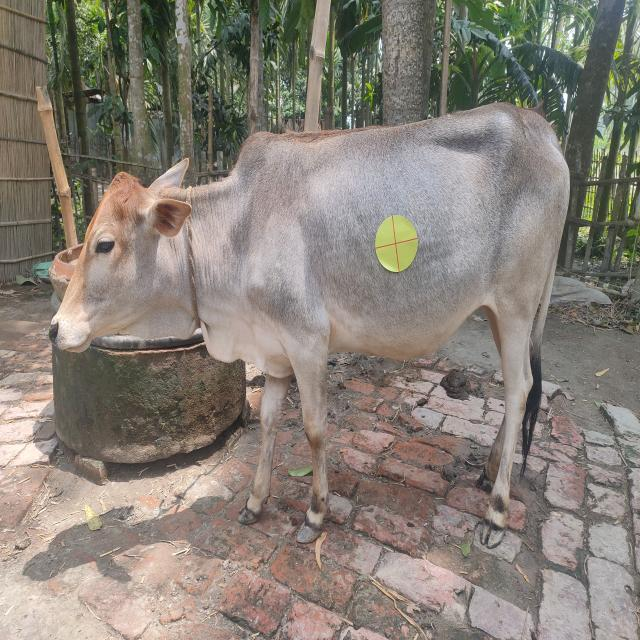badan_sapi: (248, 131, 562, 356)
sapi: (40, 90, 602, 568)
